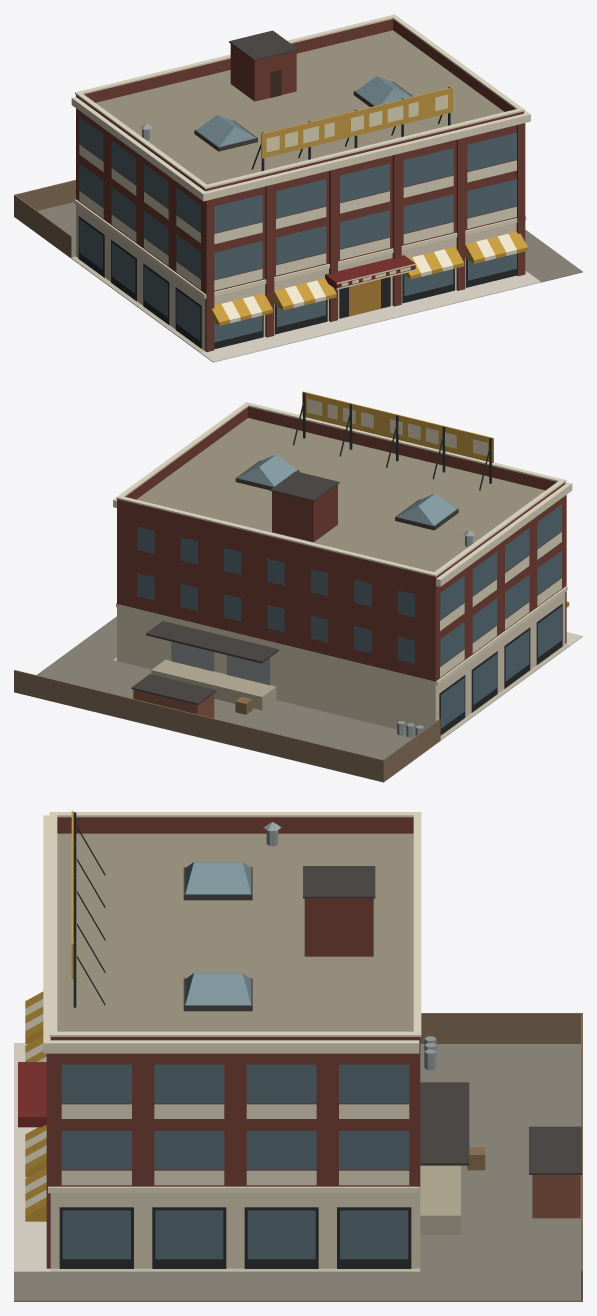
File: store_e.glb
3 renders of one model, top to bottom at view 1: azimuth 30°, elevation 25°; view 2: azimuth 150°, elevation 25°; view 3: azimuth 270°, elevation 25°, orthographic. The views are drawn at different scales.
Parts seen in each view (by area): view 1: store_e; view 2: store_e; view 3: store_e.
Part boxes in pixels (x1,y1,x2,y2): store_e: [14, 14, 582, 362]; store_e: [14, 391, 582, 782]; store_e: [14, 811, 582, 1301].
Bounding box in the file's own units: 30 × 15.25 × 28.
